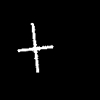single_crochet: (18, 23, 52, 71)
